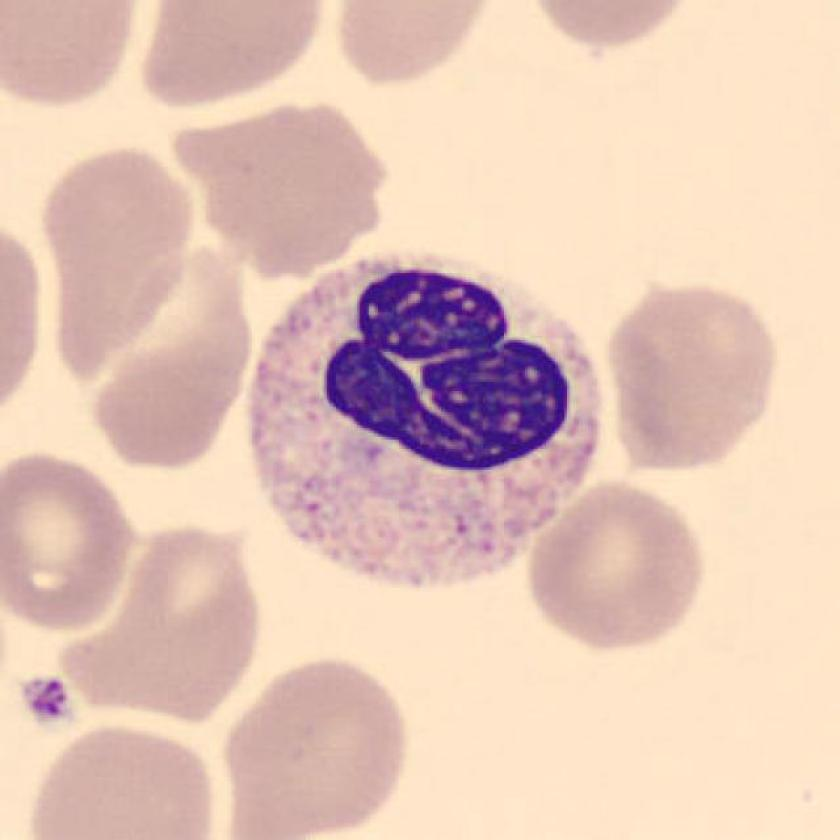neutrophil: (250, 250, 597, 585)
